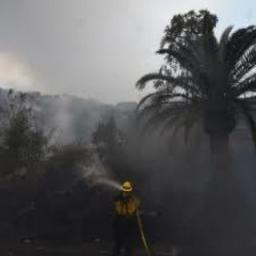Low smoke: (1, 32, 256, 217)
